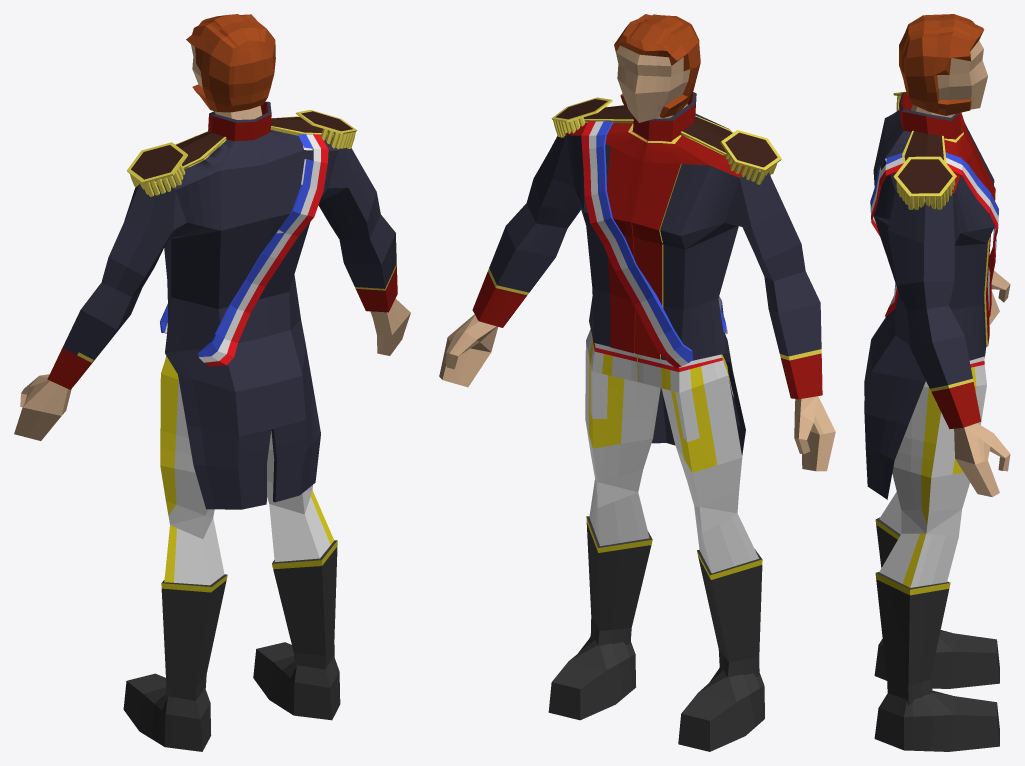
The model's file is Bernardo OhigginsV2.fbx.
The picture shows the model from 3 angles, left to right: view 1: azimuth 30°, elevation 25°; view 2: azimuth 150°, elevation 25°; view 3: azimuth 270°, elevation 25°; orthographic projection.
Parts seen in each view (by area): view 1: Ohiggins; view 2: Ohiggins; view 3: Ohiggins.
Part boxes in pixels (bbox=[...]): Ohiggins: bbox=[14, 14, 410, 751]; Ohiggins: bbox=[439, 14, 835, 751]; Ohiggins: bbox=[864, 14, 1010, 751].
Size of the model in its own units: 108 by 183 by 35.19.
